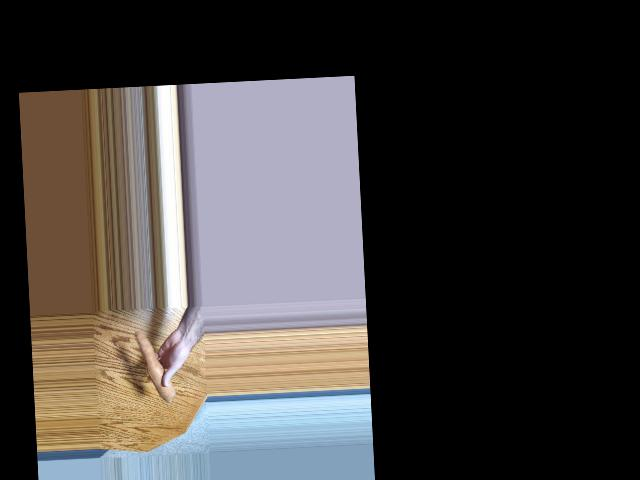sweet_potato: (139, 328, 167, 406)
